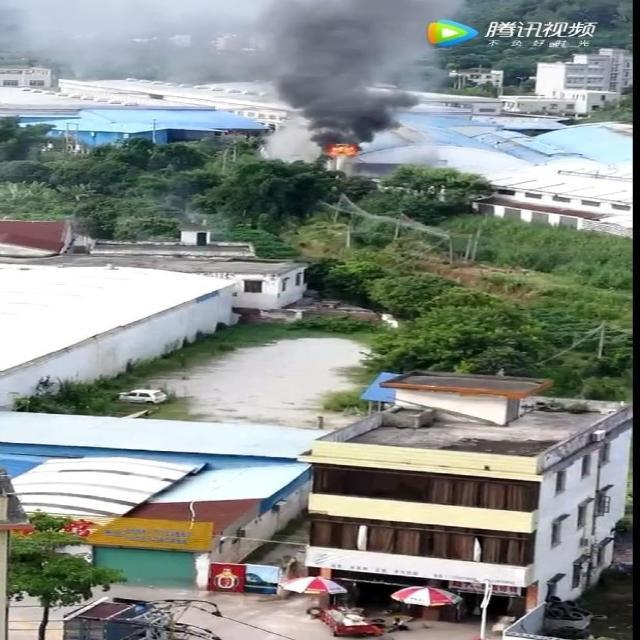Fire: (324, 142, 358, 158)
Smoke: (1, 1, 462, 162)
